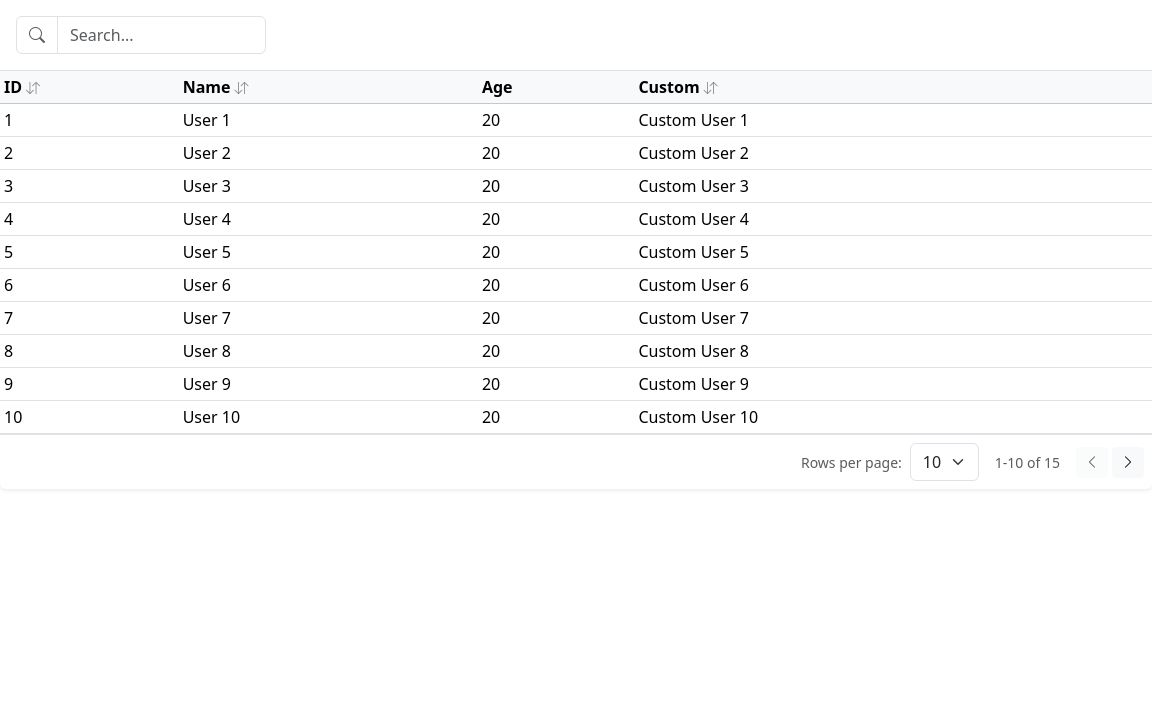
it: DataTable Component › handles pagination
Check: the text "User 1" is shown, box [179, 104, 478, 136]
Check: the text "User 10" is shown, box [179, 400, 478, 434]
Go to next page
Click the button with class "bi-chevron-right" at (1128, 462), box [1112, 446, 1144, 478]
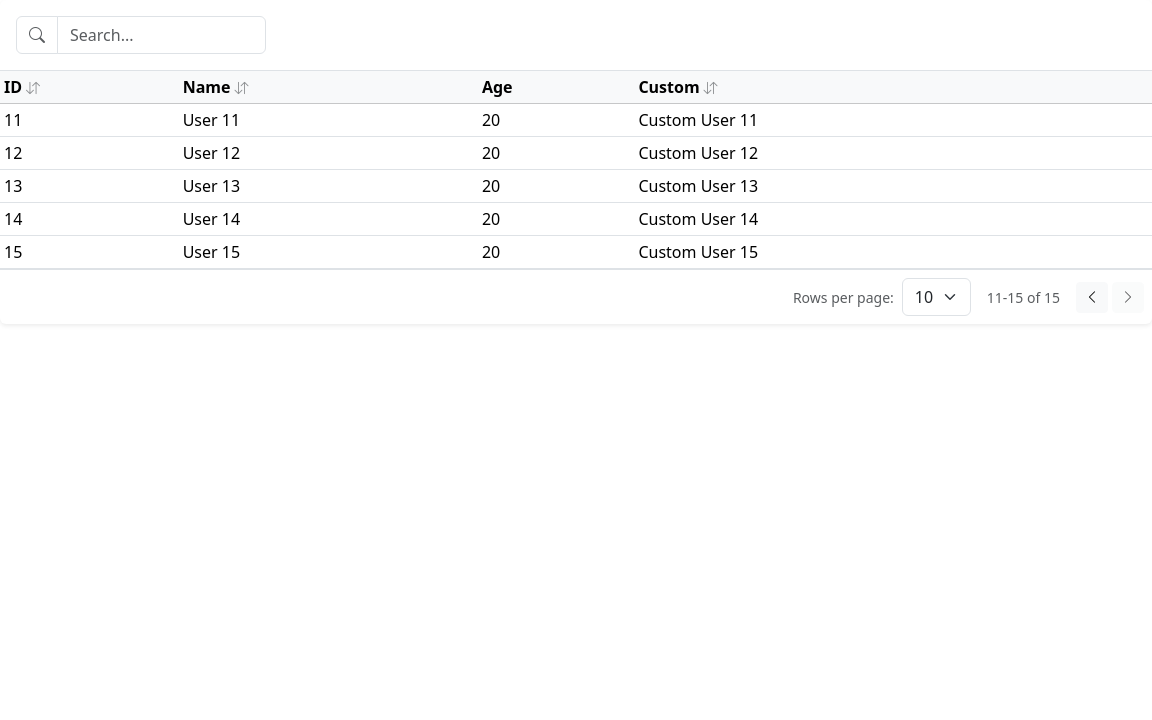
Check: the text "User 10" is gone
Check: the text "User 11" is shown, box [179, 104, 478, 136]
Check: the text "User 15" is shown, box [179, 236, 478, 268]
